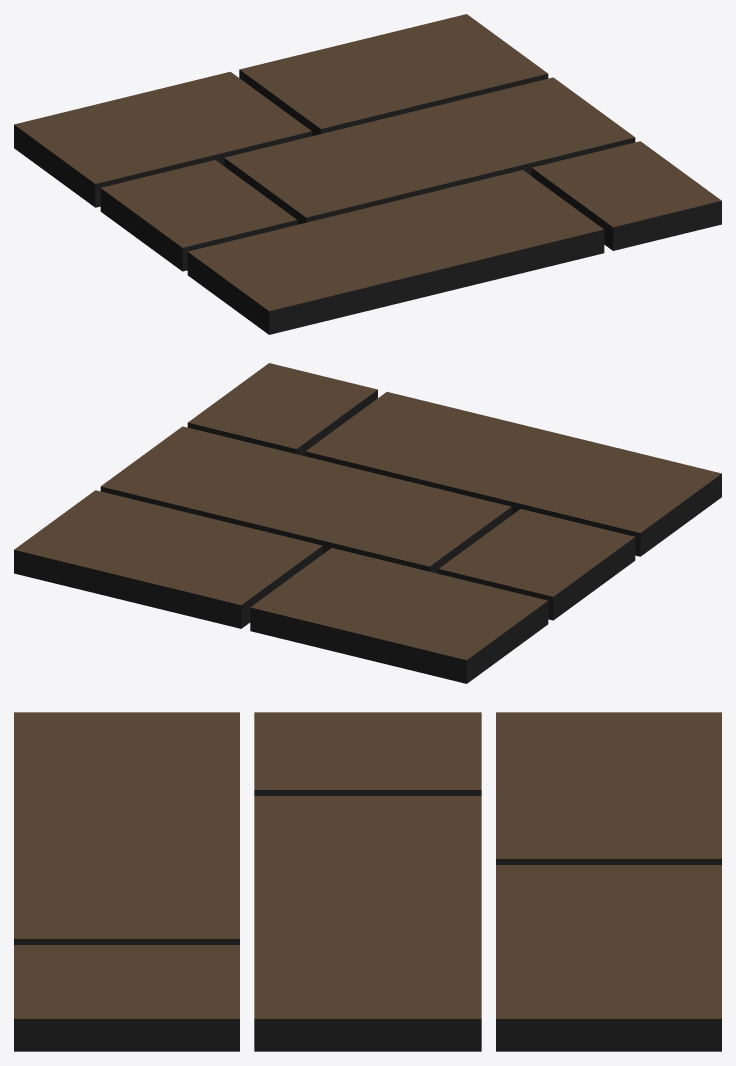
File: floor_tile_2.fbx
3 views of the same model, one above another, from view 1: azimuth 30°, elevation 25°; view 2: azimuth 150°, elevation 25°; view 3: azimuth 270°, elevation 25° (orthographic). The views are drawn at different scales.
Visible parts, largest first — view 1: floor_tile_2; view 2: floor_tile_2; view 3: floor_tile_2.
Part boxes in pixels (x1,y1,x2,y2): floor_tile_2: (14, 14, 721, 334); floor_tile_2: (14, 363, 721, 683); floor_tile_2: (14, 712, 721, 1051).
Bounding box in the file's own units: 100 × 5 × 97.61.
